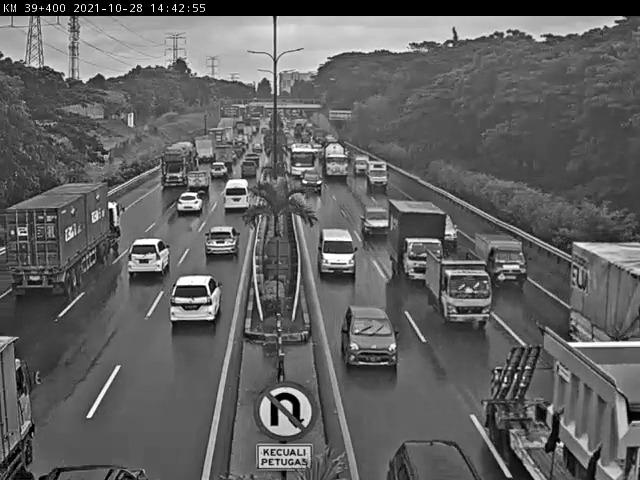big bus: (289, 143, 316, 179)
big truck: (5, 183, 123, 297), (322, 139, 351, 181)
car: (340, 307, 400, 371), (171, 274, 223, 325), (319, 227, 358, 279), (127, 236, 172, 278), (203, 225, 241, 260), (223, 177, 251, 211), (361, 206, 388, 237), (300, 169, 324, 195), (177, 191, 204, 213)
small truck: (426, 247, 492, 333), (387, 198, 448, 288), (474, 231, 532, 292), (366, 159, 390, 191), (187, 170, 211, 193), (354, 152, 370, 177)
